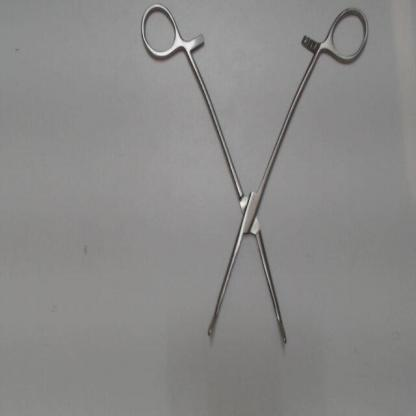Lahey Forceps: (134, 2, 369, 350)
